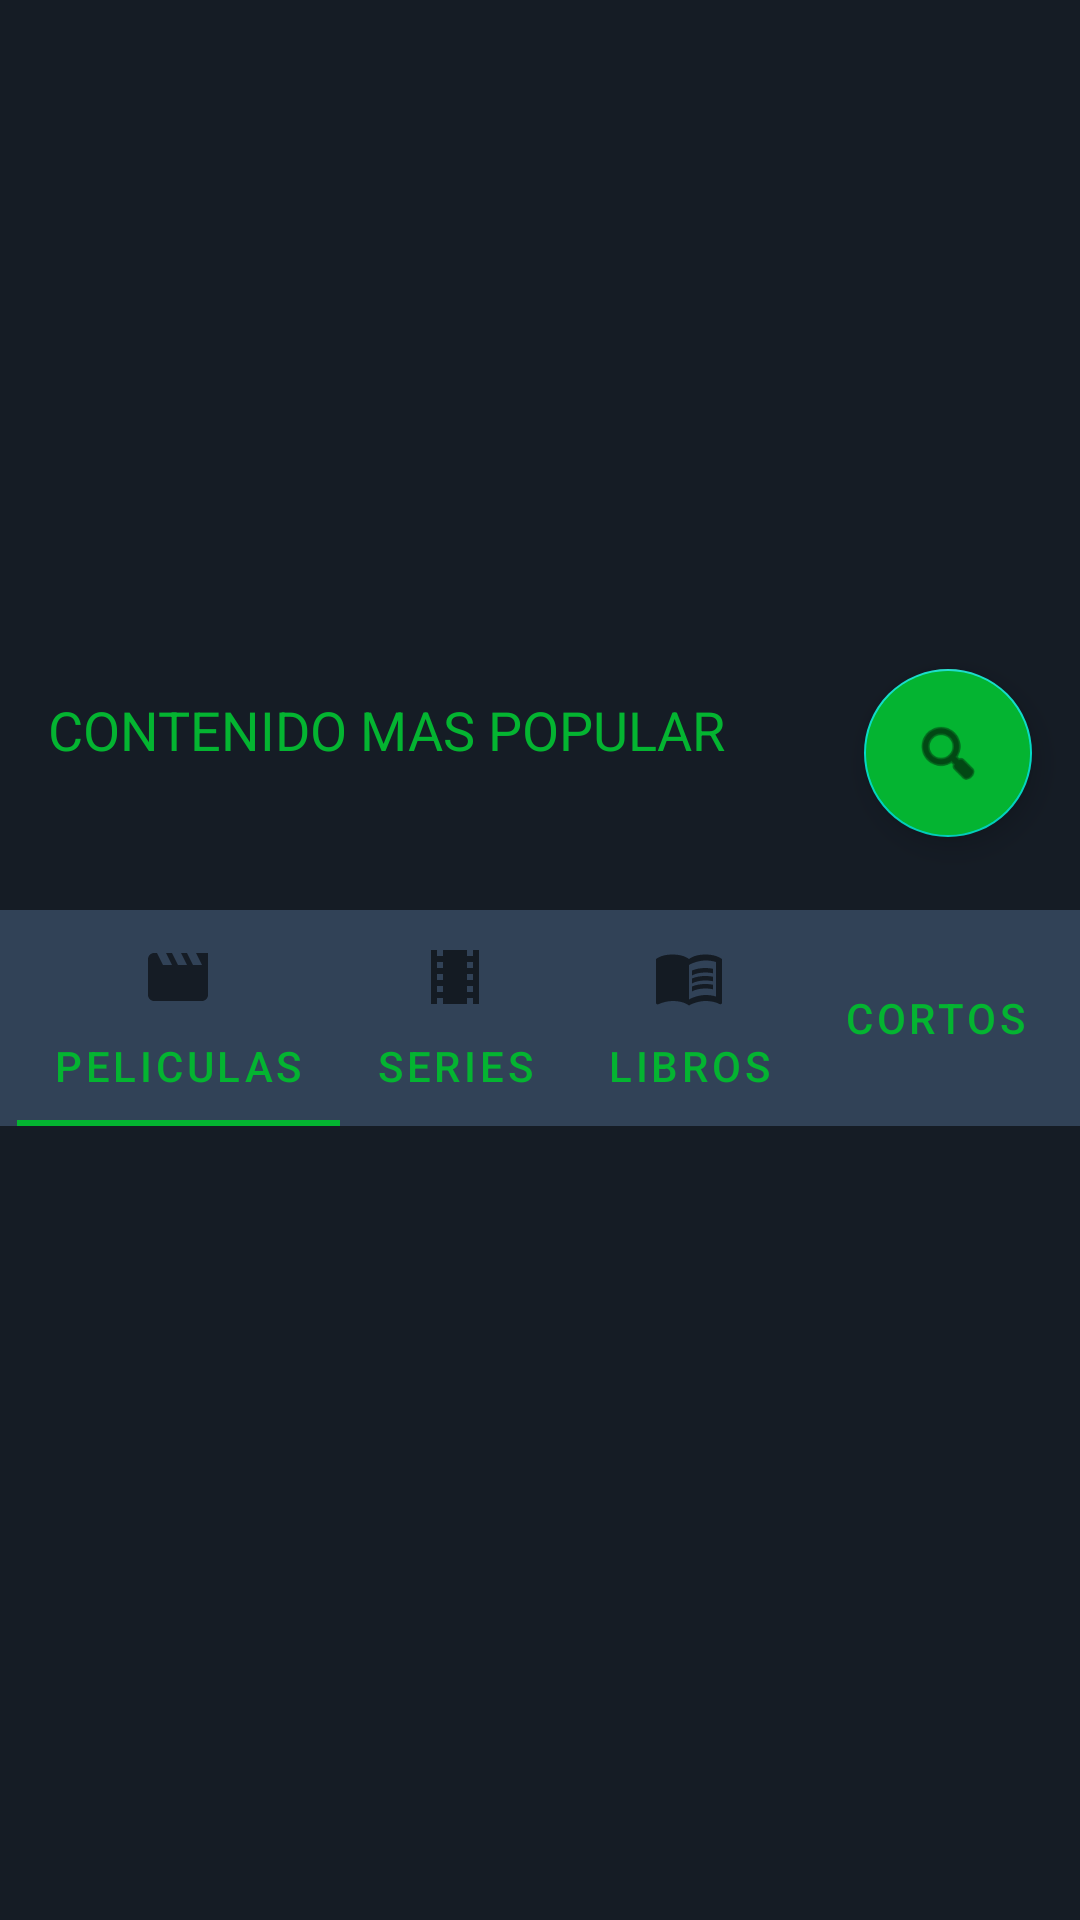

Screen size 1080px×1920px. Icon name, then its box in pixels as (x1, y1, x2, y2):
search: (864, 669, 1032, 837)
